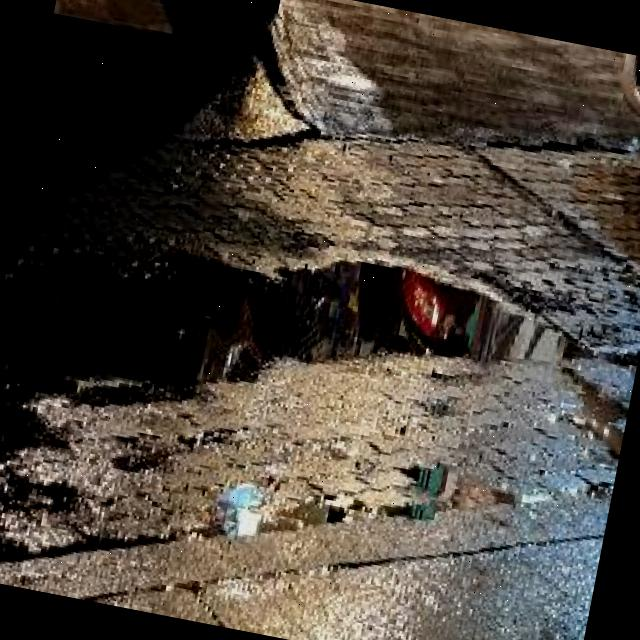stagnation: (0, 160, 595, 521)
